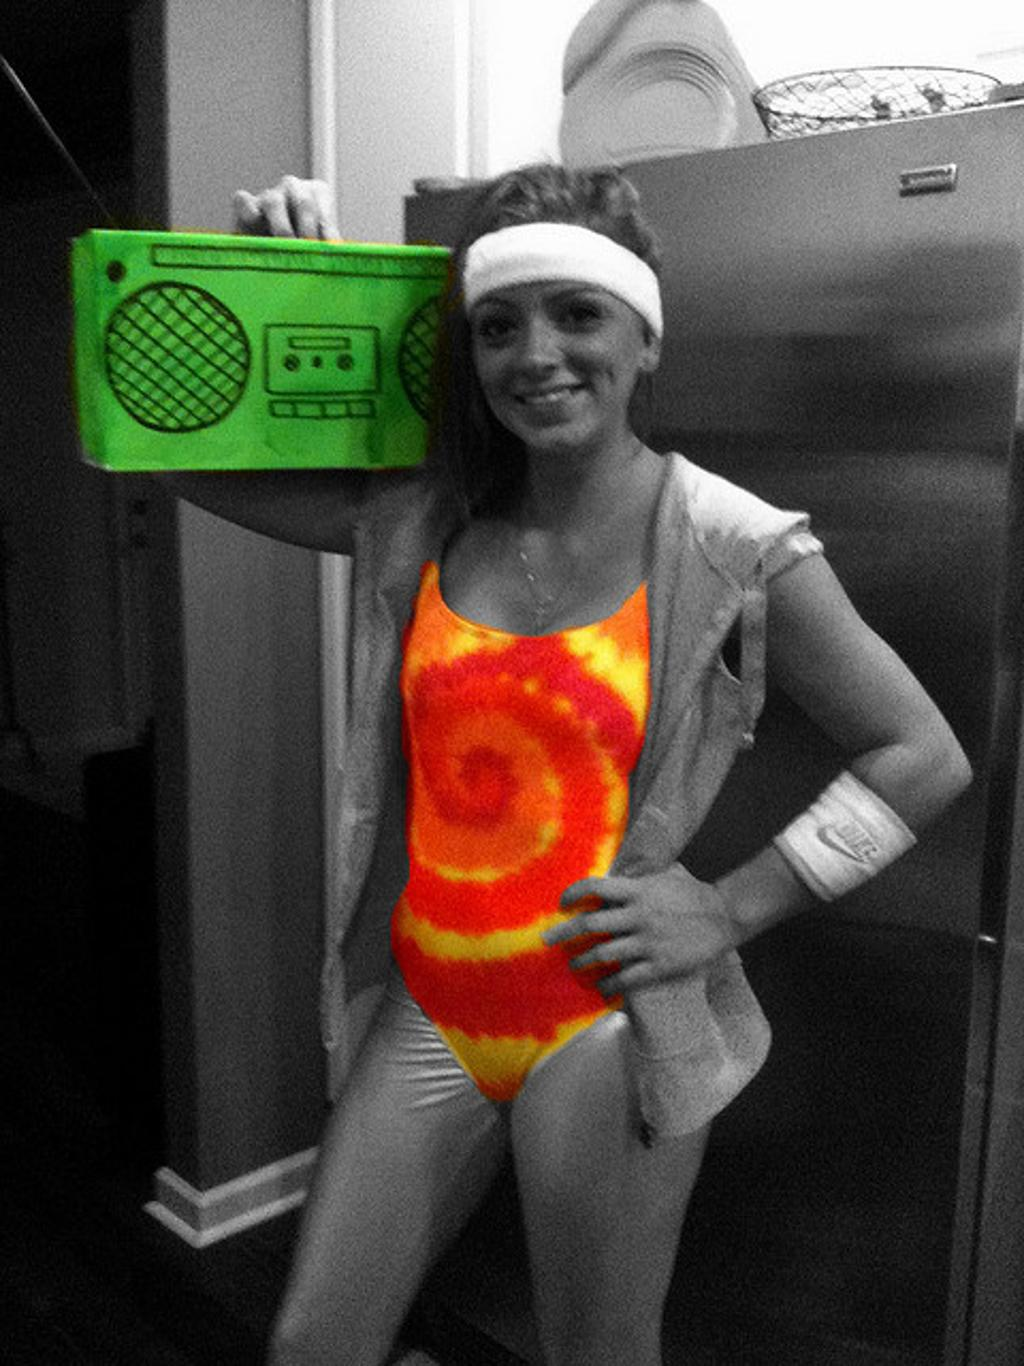face: (468, 252, 644, 452)
